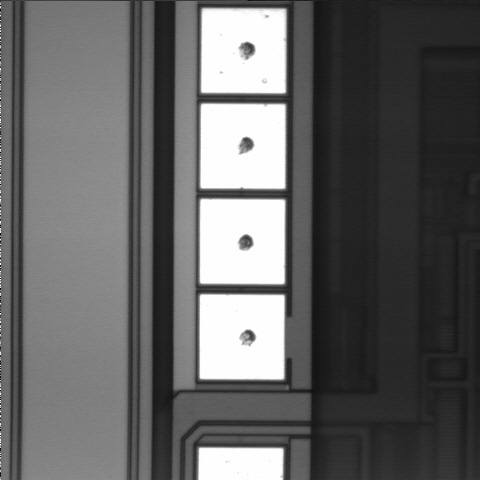pad: (200, 104, 285, 189), (200, 199, 285, 284), (200, 294, 285, 379), (201, 9, 286, 93)
